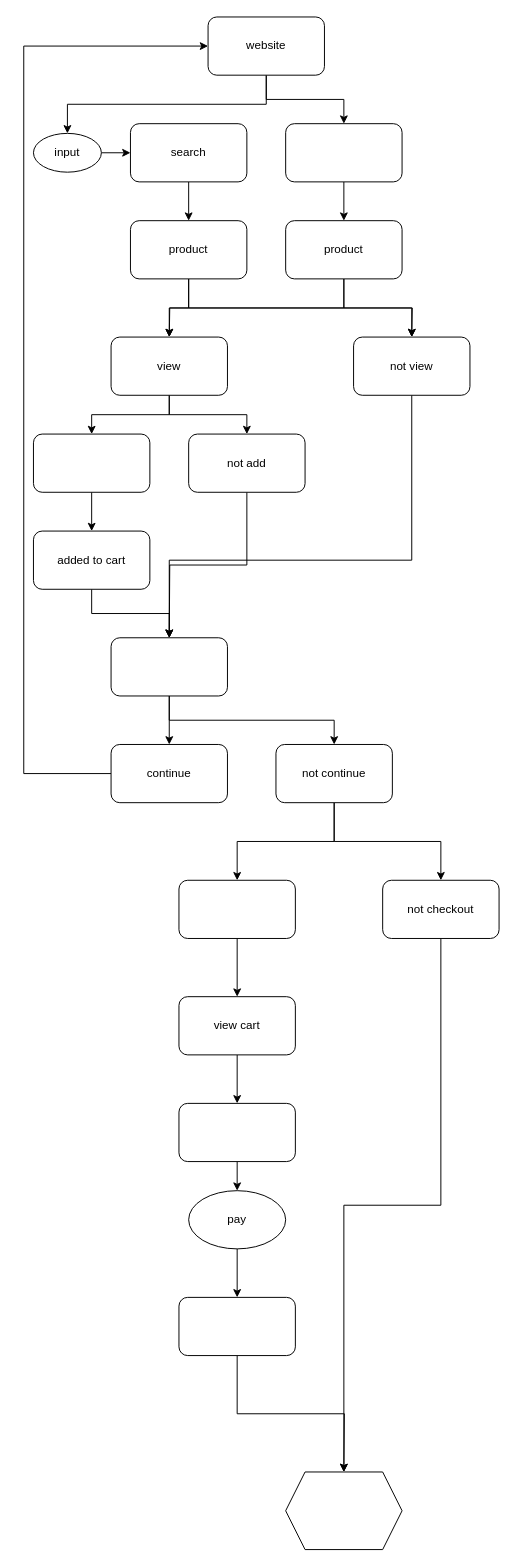
Image size: 516x1567. Some labels were removed from this diagram. Here are the shapes that lost their labels. From the top down, the box of each, then its label:
(285, 123, 402, 182): explore
(32, 433, 150, 492): add
(110, 637, 227, 696): continue shopping?
(178, 879, 295, 938): checkout
(178, 1102, 295, 1162): view payment
(178, 1296, 295, 1356): conformation & email
(285, 1471, 402, 1550): leave
